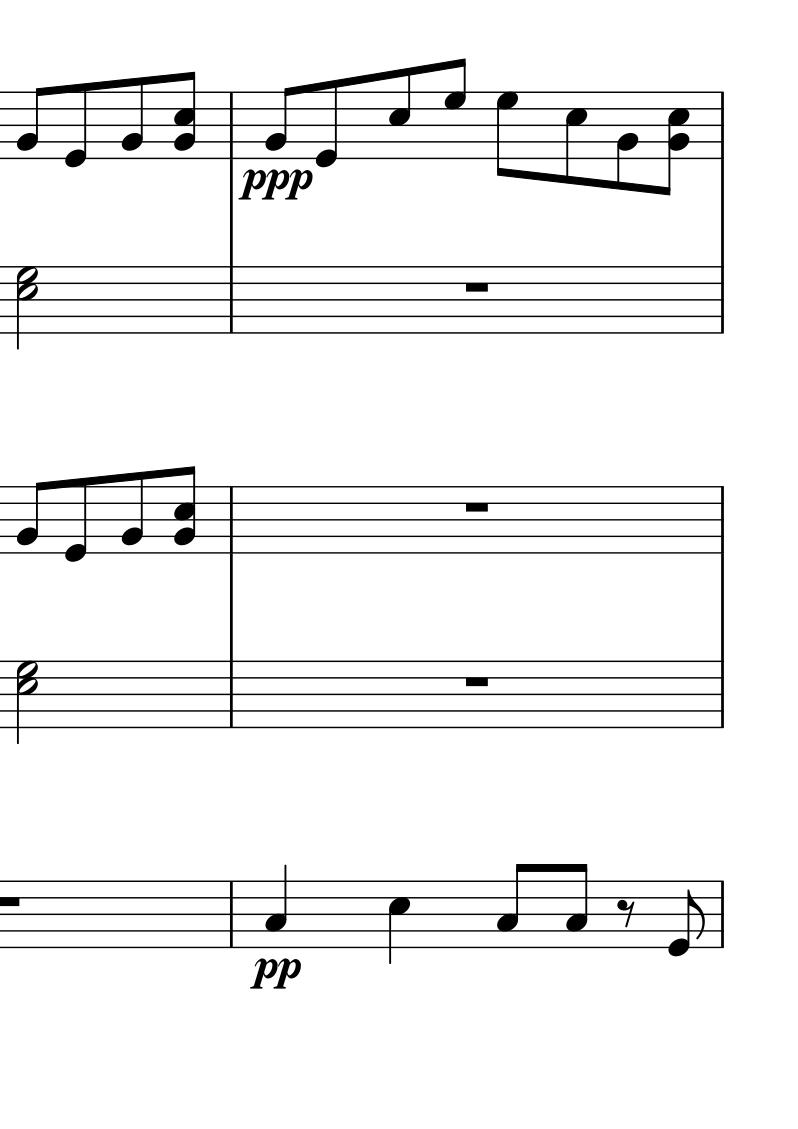2_5_7: (16, 265, 41, 350), (15, 657, 40, 742)
4_3: (263, 863, 289, 947)
4_5: (386, 878, 411, 966)
8_0: (666, 880, 704, 959), (61, 82, 90, 171), (313, 78, 341, 170), (62, 476, 89, 566)
8_2: (613, 91, 638, 193), (263, 85, 296, 158), (15, 480, 47, 555), (118, 76, 146, 161), (15, 85, 46, 161), (119, 471, 145, 555)
8_3: (495, 862, 528, 951), (563, 861, 590, 951)
8_5: (386, 65, 413, 161), (562, 89, 588, 187)
8_7: (442, 57, 468, 162), (494, 90, 520, 181)
Rests1: (460, 278, 492, 297), (461, 498, 492, 516), (461, 673, 492, 690), (1, 893, 25, 909)
Rests8: (616, 897, 639, 931)
Single_barline: (223, 266, 240, 333), (713, 662, 730, 727), (224, 92, 240, 158), (223, 881, 239, 947), (714, 267, 729, 333), (223, 487, 238, 552), (715, 487, 730, 552), (716, 91, 730, 159), (224, 660, 238, 727), (715, 881, 729, 948)
pp: (247, 955, 302, 995)
ppp: (236, 166, 313, 204)
